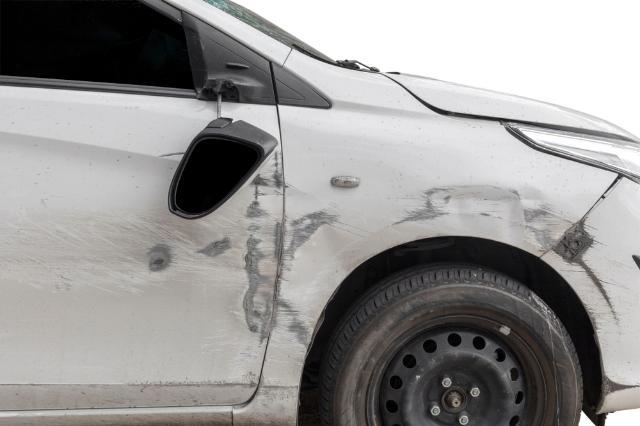dent: (417, 184, 545, 237)
scratch: (0, 153, 287, 384), (267, 187, 340, 365), (551, 215, 640, 342)
